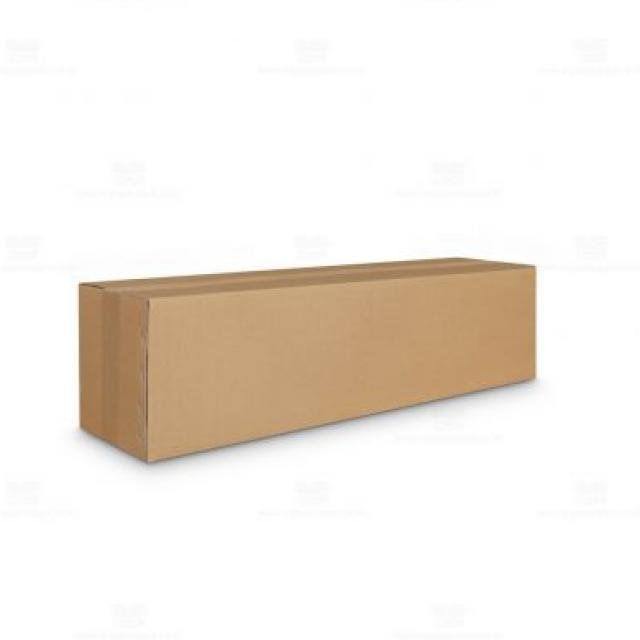box: (54, 238, 558, 479)
